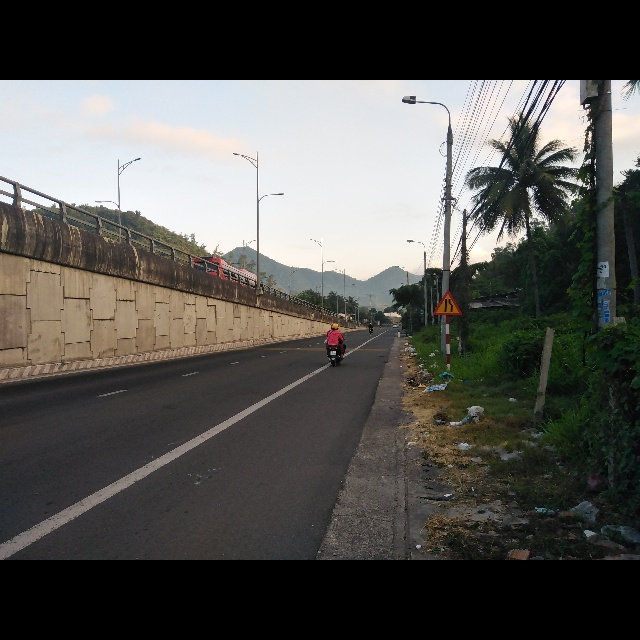Đường bị hẹp bên phải: (432, 288, 463, 316)
